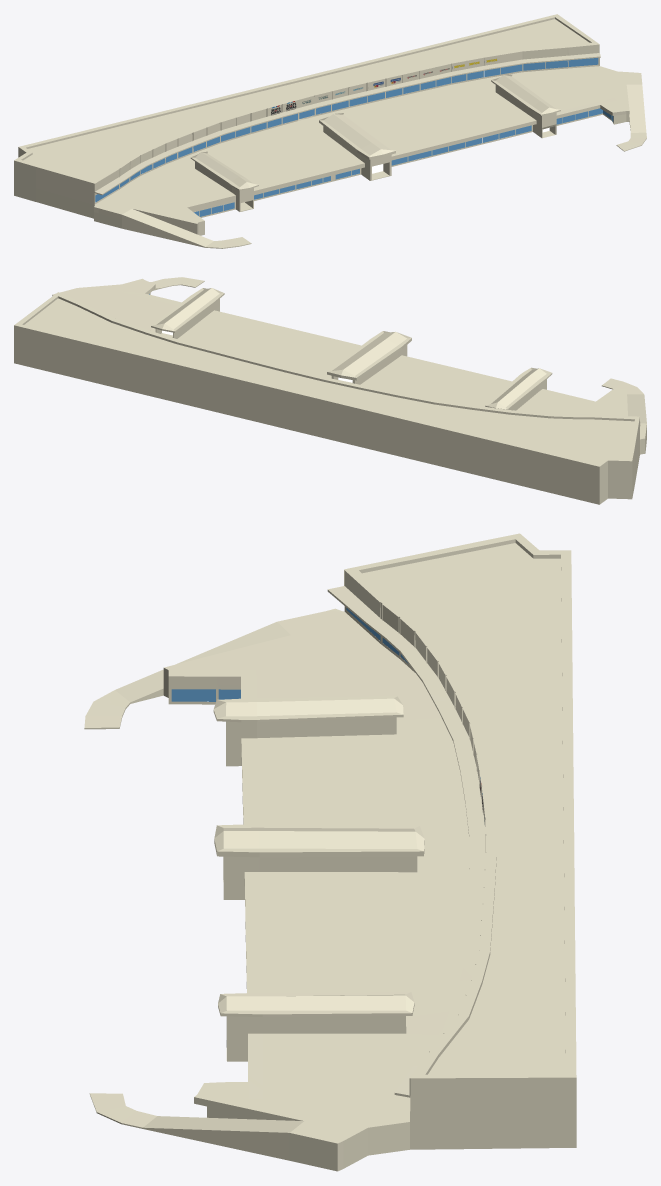
Rendered from wbbuilding1_draco.glb.
3 views of the same model, one above another, from view 1: azimuth 30°, elevation 25°; view 2: azimuth 150°, elevation 25°; view 3: azimuth 270°, elevation 25° (orthographic). The views are drawn at different scales.
Parts seen in each view (by area): view 1: 548211239.001; view 2: 548211239.001; view 3: 548211239.001.
Part boxes in pixels (x1,y1,x2,y2): 548211239.001: (14, 14, 646, 248); 548211239.001: (14, 277, 646, 504); 548211239.001: (84, 533, 576, 1171).
Bounding box in the file's own units: 1825 × 107 × 668.
Materials: 4 (1 with a texture image).
